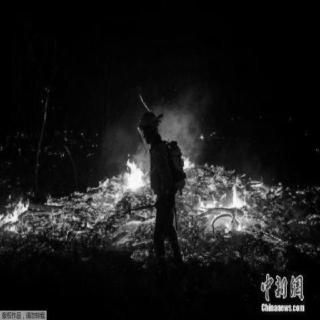Fire: (123, 154, 151, 192)
